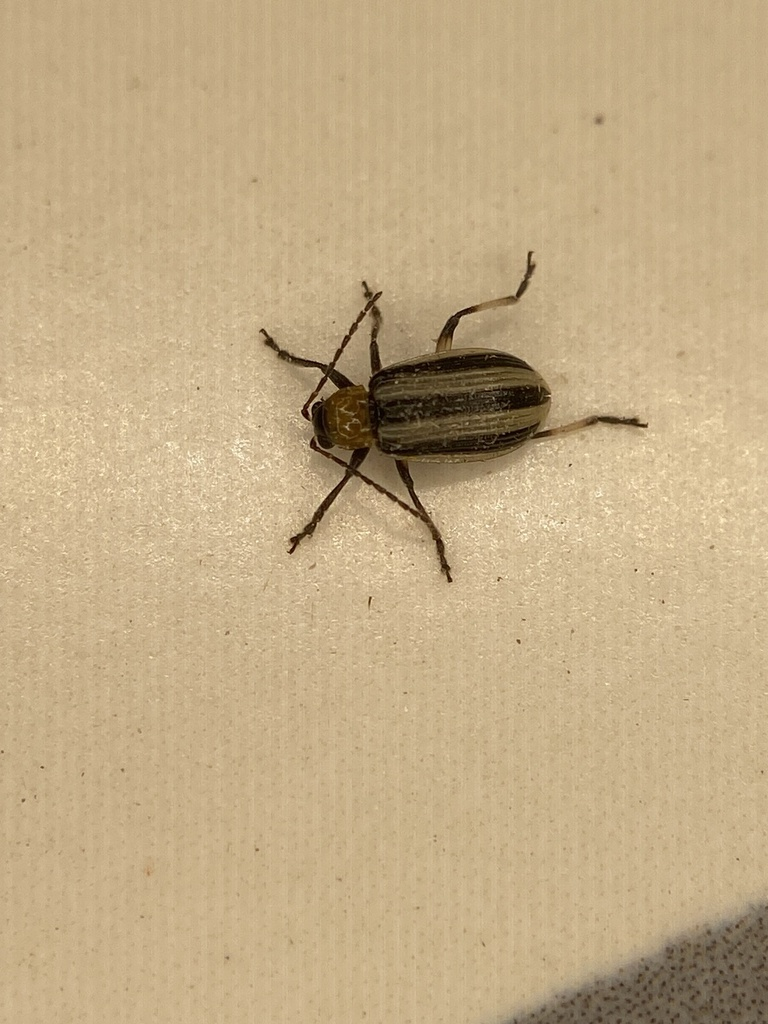potato_beetle: (141, 165, 736, 660)
